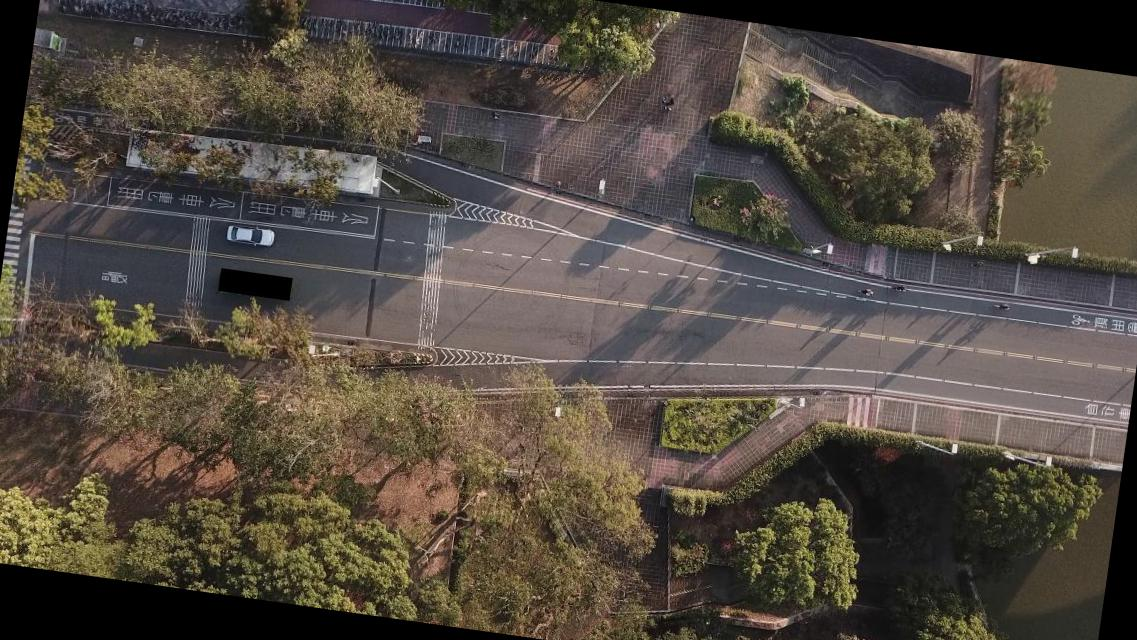vehicle: (224, 222, 276, 248)
